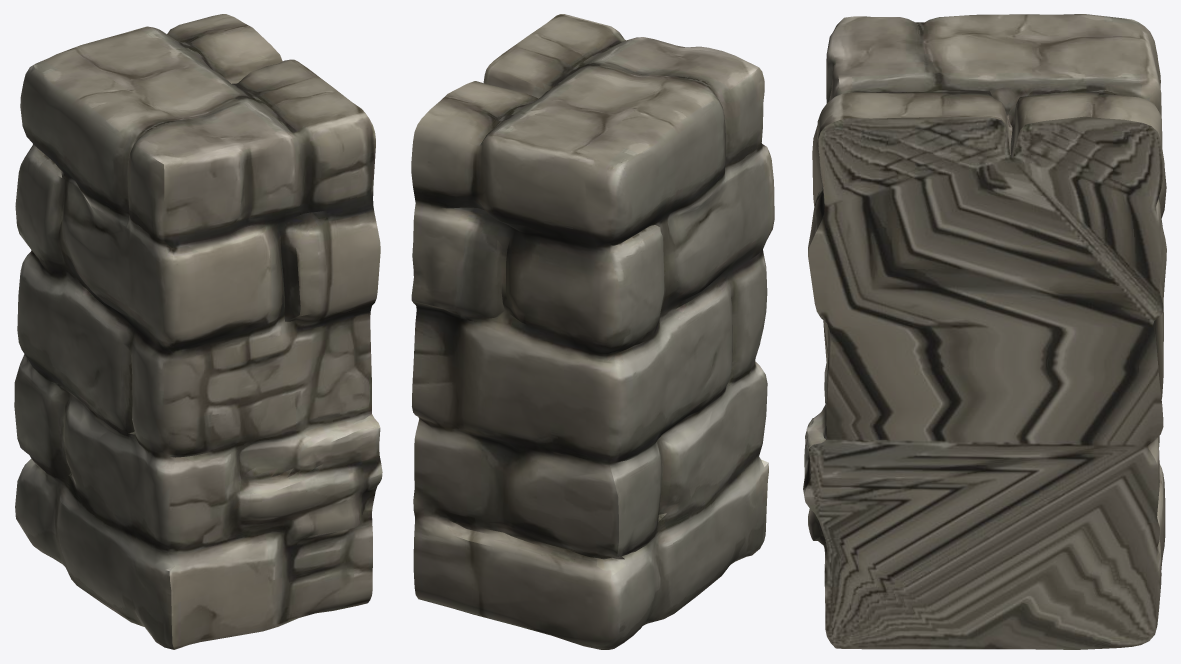
Rendered from WallStoneEnd.glb.
3 renders of one model, left to right at view 1: azimuth 30°, elevation 25°; view 2: azimuth 150°, elevation 25°; view 3: azimuth 270°, elevation 25°, orthographic. The views are drawn at different scales.
Visible parts, largest first — view 1: WallStoneEnd; view 2: WallStoneEnd; view 3: WallStoneEnd.
Part boxes in pixels (<box>): WallStoneEnd: <box>14,14,382,649</box>; WallStoneEnd: <box>411,14,774,649</box>; WallStoneEnd: <box>803,14,1166,649</box>.
Bounding box in the file's own units: 0.5378 × 1.2 × 0.7404.
Materials: 1 (1 with a texture image).
